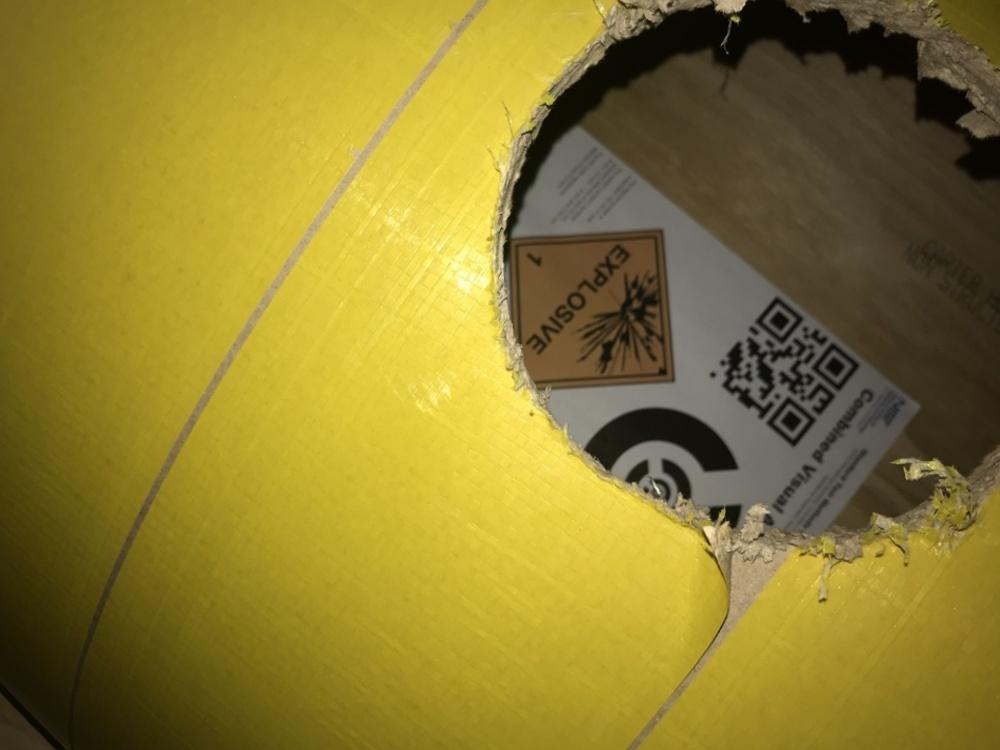explosive: (505, 226, 677, 391)
